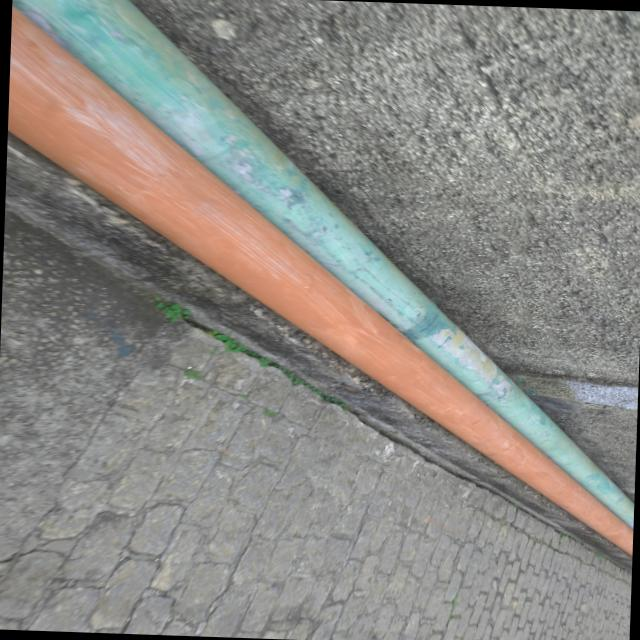gas: (7, 3, 633, 560), (12, 0, 634, 529)
